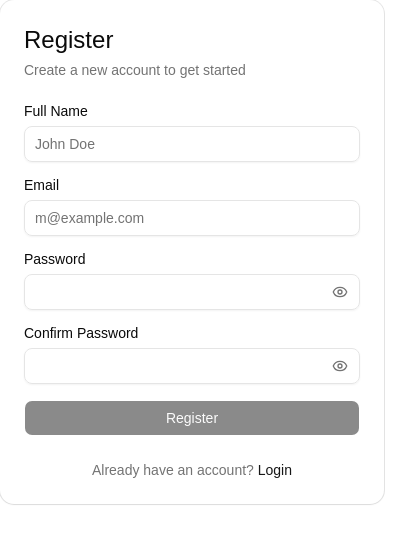
Scenario: RegisterForm - confirm password field validation › shows an error when the confirm password is empty and blurred
Step 1. Click the password field labelled "Confirm Password" → (192, 366), box [24,348,360,384]
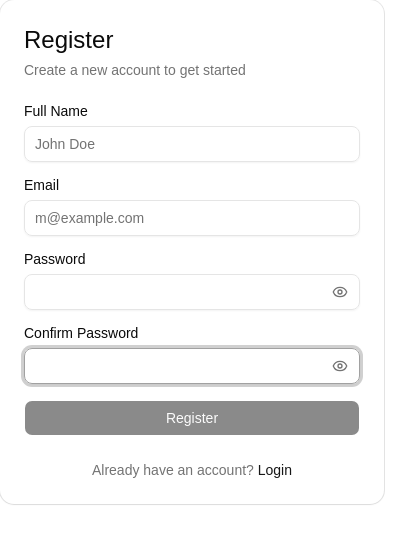
Step 2. Press Tab
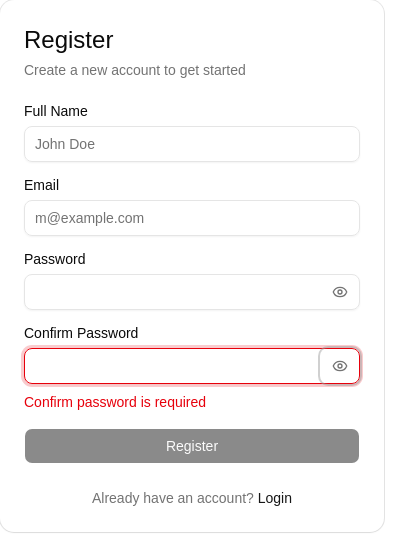
expect the text "Confirm password is required" is shown: met, box [24,394,206,410]
